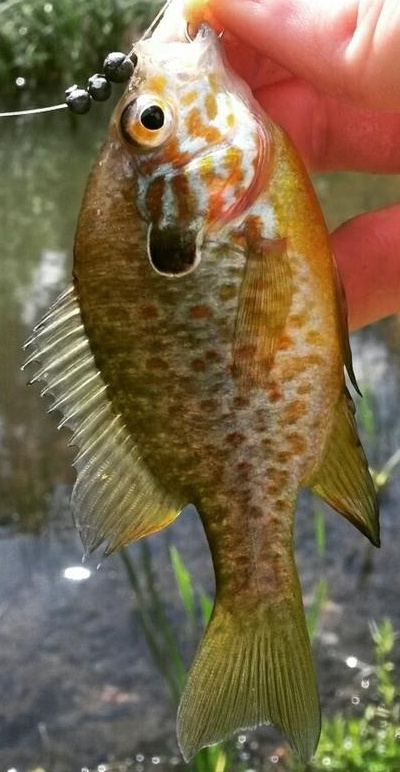Lepomis gibbosus: (20, 20, 380, 763)
